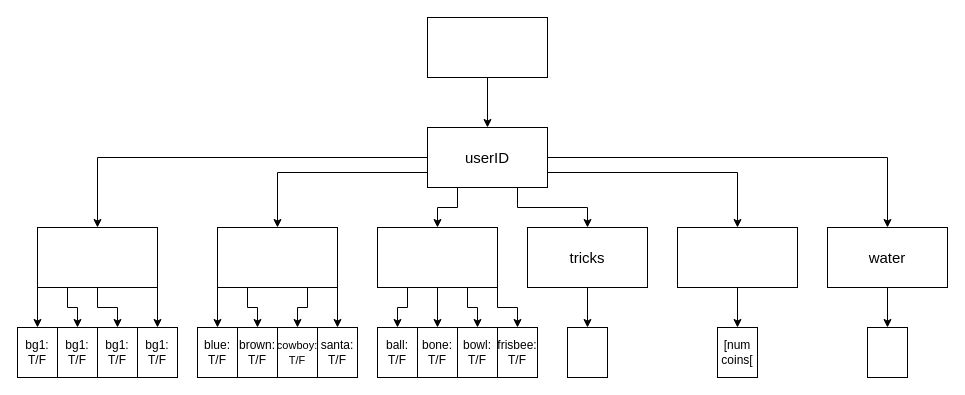
Some shapes in this 965 by 395 pixel diagram are drawn without their labels. Here are the shapes that lost their labels. From the top down, the box of each, then its label:
(426, 16, 548, 78): DB URL Path
(36, 226, 158, 288): backgrounds
(216, 226, 338, 288): hats
(376, 226, 498, 288): toys
(676, 226, 798, 288): coins
(566, 326, 608, 378): speak: T/F
(866, 326, 908, 378): [num cups drank]
